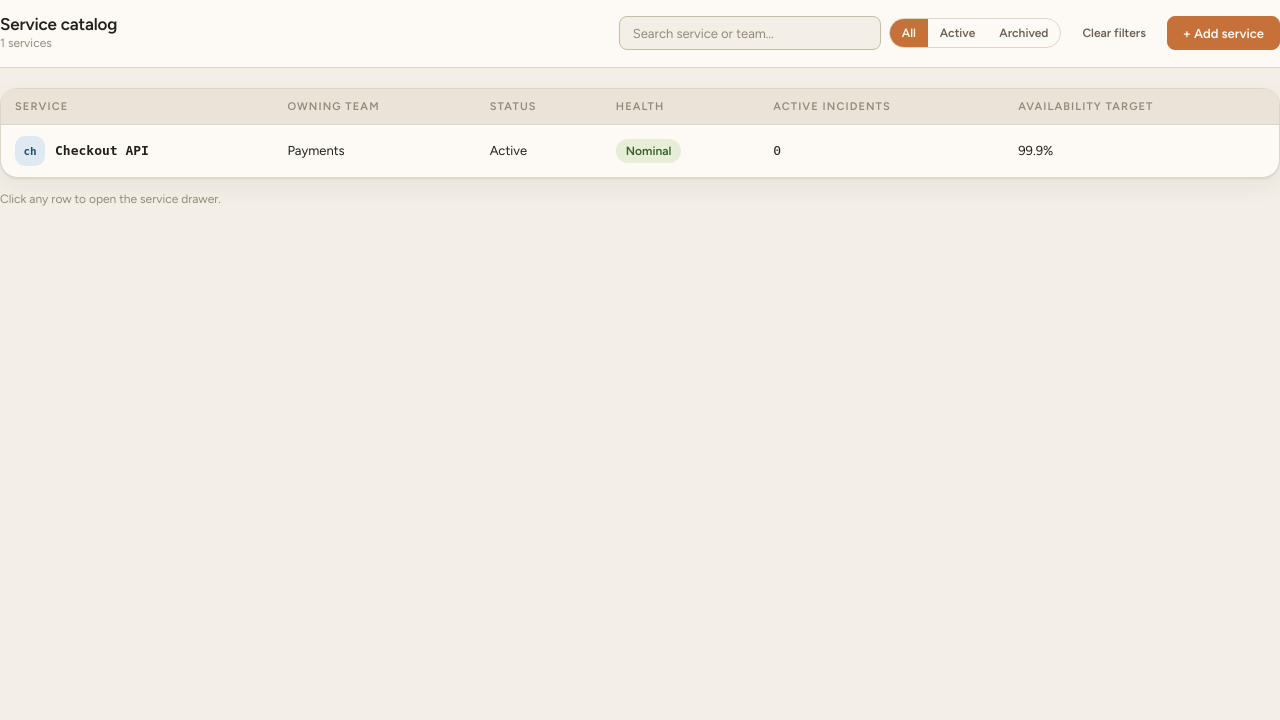
Test case: ServicesPage › opens the drawer with real service data when a row is clicked
Click the text "Checkout API" at (640, 151), box [1,124,1279,177]
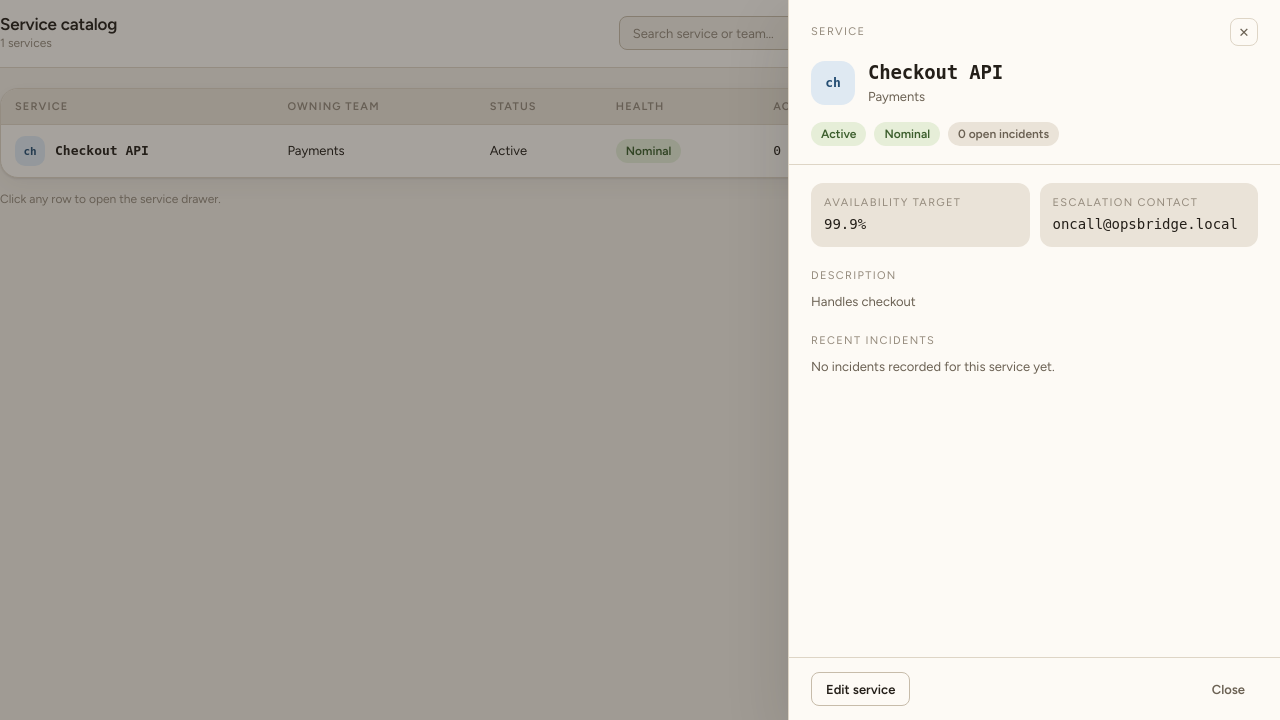
Expected: the text "Handles checkout" is shown, [811,294,916,309]
Expected: the text "oncall@opsbridge.local" is shown, [1052,214,1245,236]
